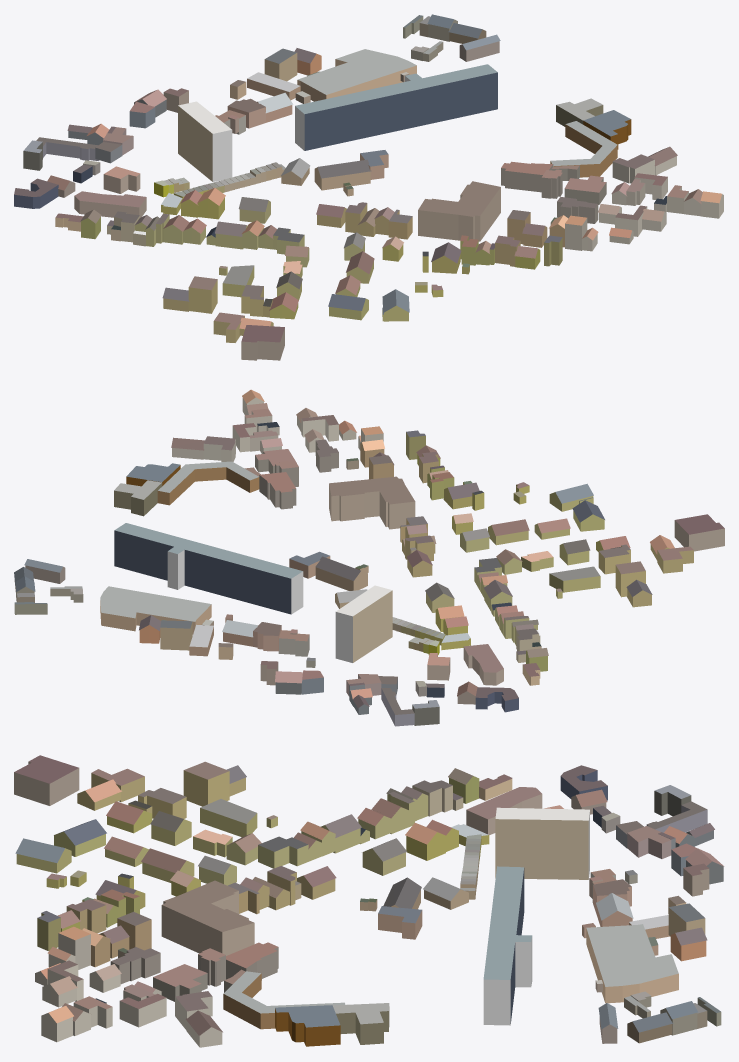
3 renders of one model, top to bottom at view 1: azimuth 30°, elevation 25°; view 2: azimuth 150°, elevation 25°; view 3: azimuth 270°, elevation 25°, orthographic. The views are drawn at different scales.
Visible parts, largest first — view 1: tuile; view 2: tuile; view 3: tuile.
Boxes of the visible parts, x1=… form: tuile: x1=14, y1=14, x2=723, y2=360; tuile: x1=14, y1=389, x2=724, y2=726; tuile: x1=14, y1=755, x2=724, y2=1047.
Bounding box in the file's own units: 267 × 28.95 × 262.
